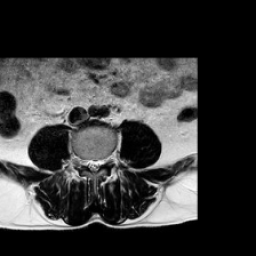CCS_normal: (90, 150, 96, 179)
LFS_normal: (102, 148, 109, 169)
LLS_normal: (96, 152, 102, 174)
RFS_normal: (79, 150, 85, 171)
RLS_normal: (85, 150, 90, 175)
